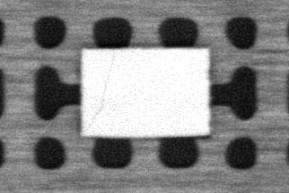DIE_CRACK: (85, 52, 115, 127)
